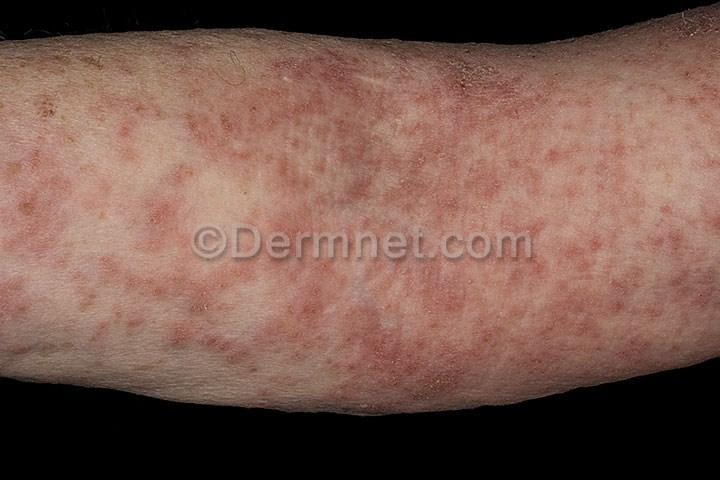edema 2: (0, 49, 719, 410)
exudacion 1: (443, 56, 511, 102), (669, 10, 718, 47)
xerosis 1: (0, 25, 347, 66)
